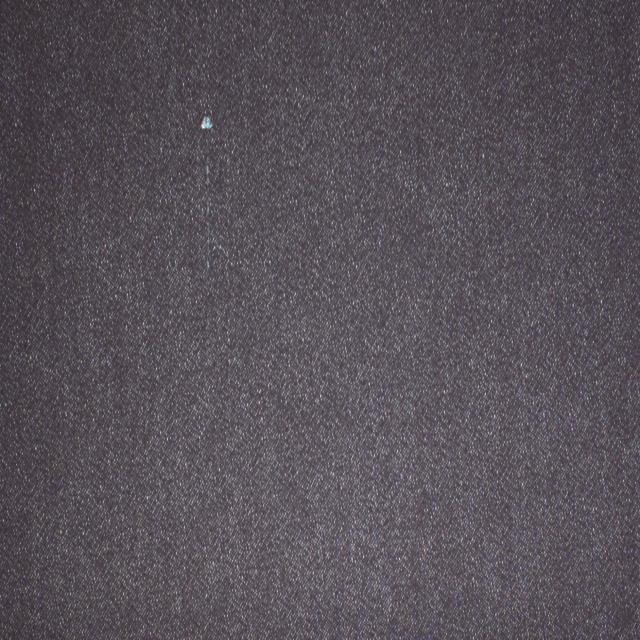Knot: (200, 115, 212, 128)
